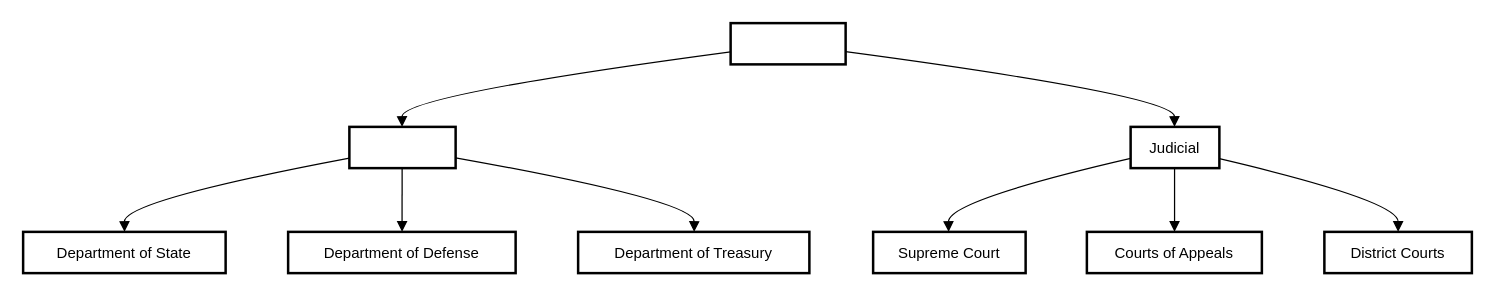
Image size: 1494x295. Some labels were removed from this diagram. Each missing label, with the centre of its shape:
Executive: pixel 402 147
Legislative: pixel 787 43
